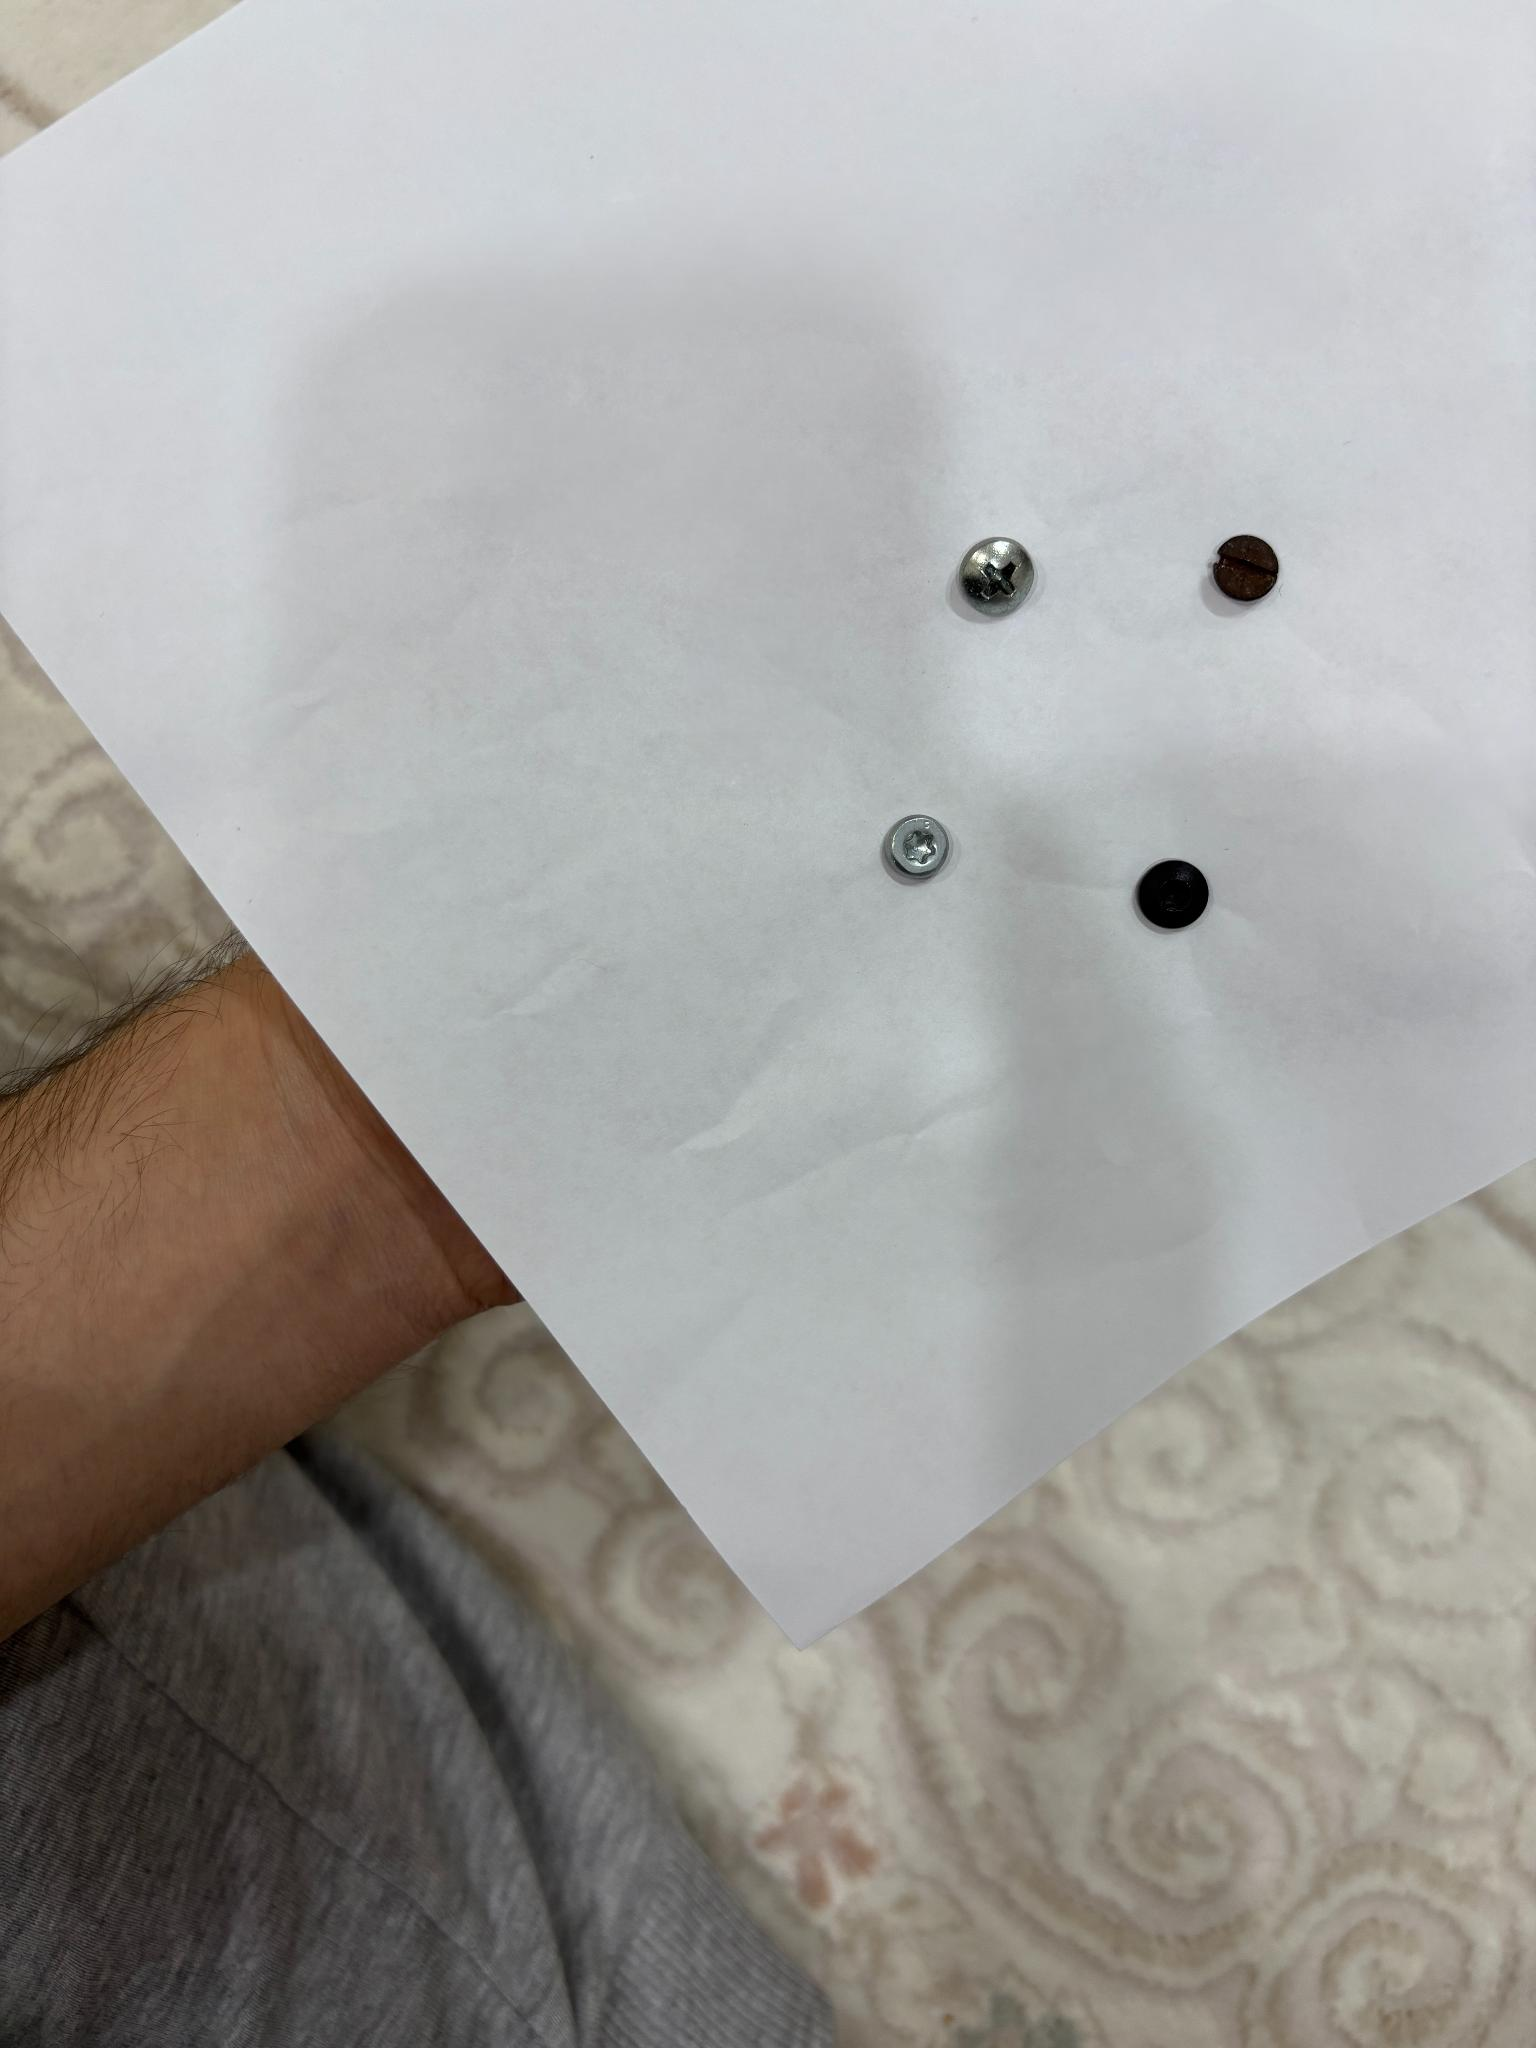H: (1137, 860, 1208, 929)
PH: (959, 537, 1034, 616)
SL: (1212, 535, 1279, 602)
T: (886, 815, 949, 876)
